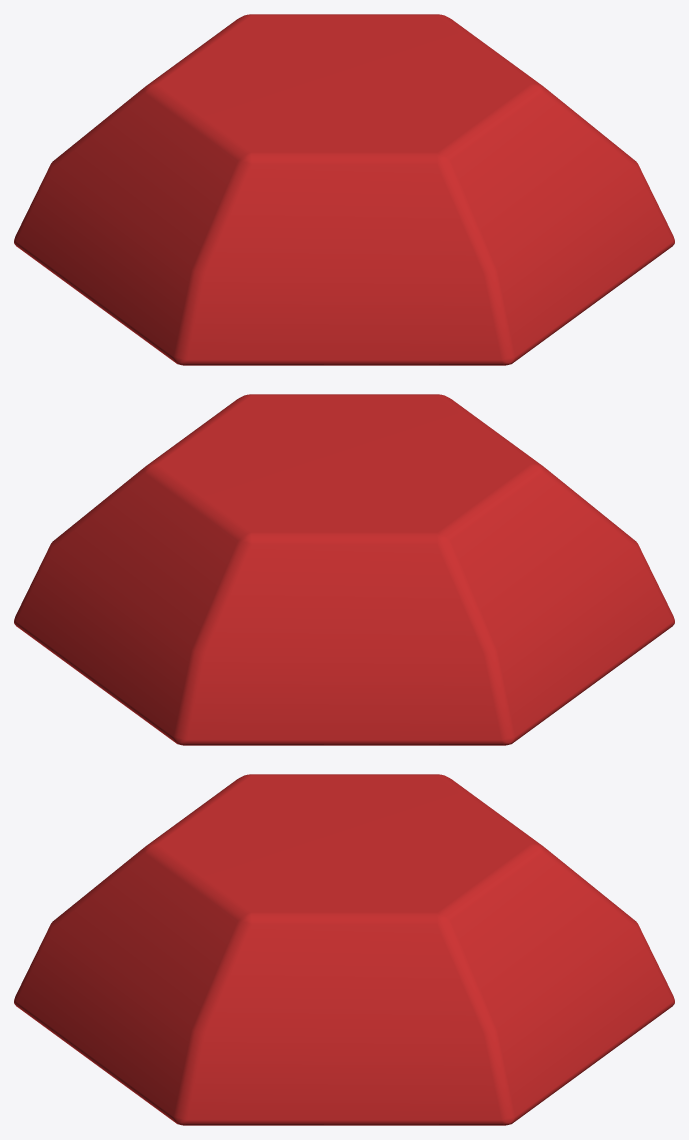
File: Gem.fbx
3 views of the same model, one above another, from view 1: azimuth 30°, elevation 25°; view 2: azimuth 150°, elevation 25°; view 3: azimuth 270°, elevation 25° (orthographic).
Visible parts, largest first — view 1: Cylinder.002; view 2: Cylinder.002; view 3: Cylinder.002.
Part boxes in pixels (left/top/right/bottom): Cylinder.002: left=14, top=14, right=674, bottom=365; Cylinder.002: left=14, top=394, right=674, bottom=745; Cylinder.002: left=14, top=774, right=674, bottom=1125.
Size of the model in its own units: 1.14 by 0.354 by 1.31.
